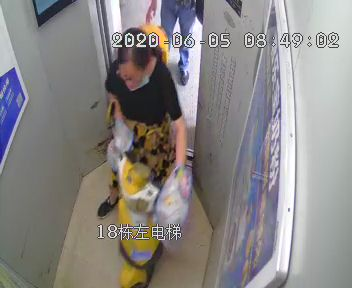Electric-bicycle: (103, 22, 183, 285)
